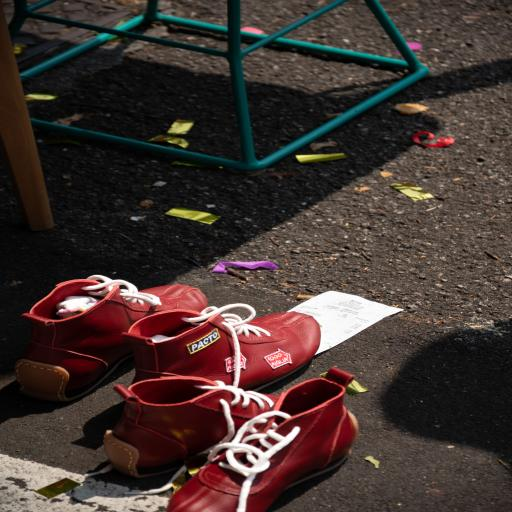shoe: (168, 369, 358, 511), (16, 276, 207, 401), (104, 377, 278, 477), (123, 304, 320, 389)
